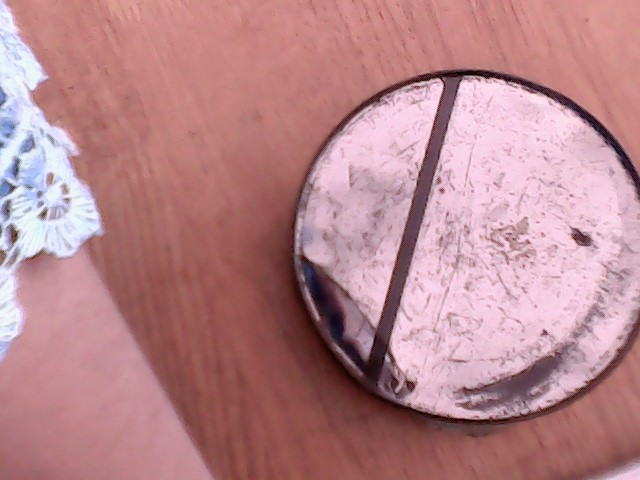Metal: (266, 58, 640, 480)
